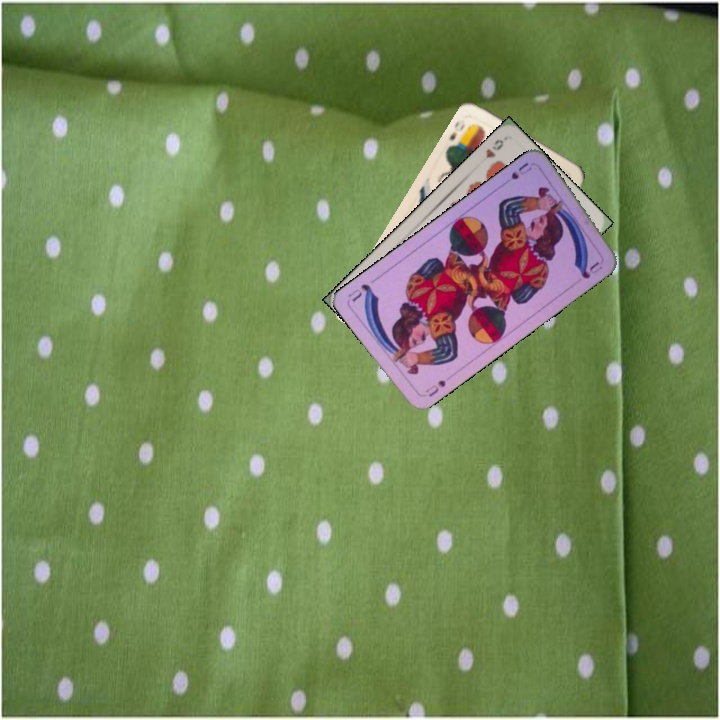EO: (445, 116, 468, 143)
H9: (482, 135, 506, 161)
SU: (498, 158, 534, 189), (421, 376, 448, 400)
